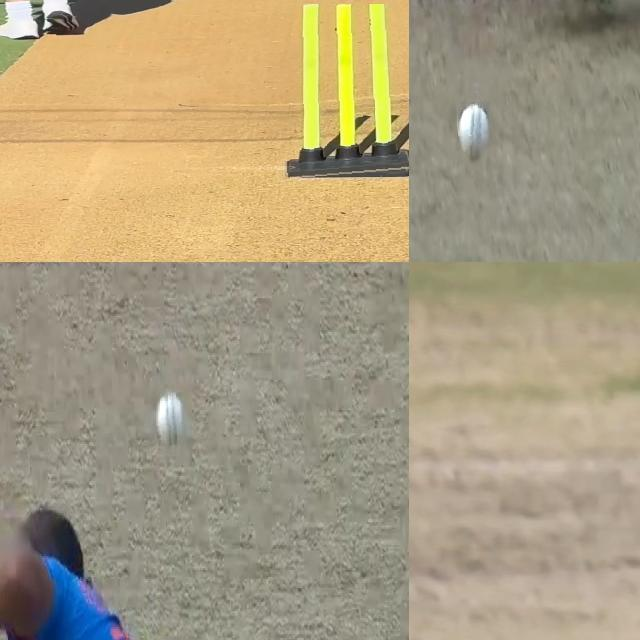Cricket ball: (457, 102, 492, 166), (152, 392, 186, 452)
Stumps: (281, 3, 409, 179)
